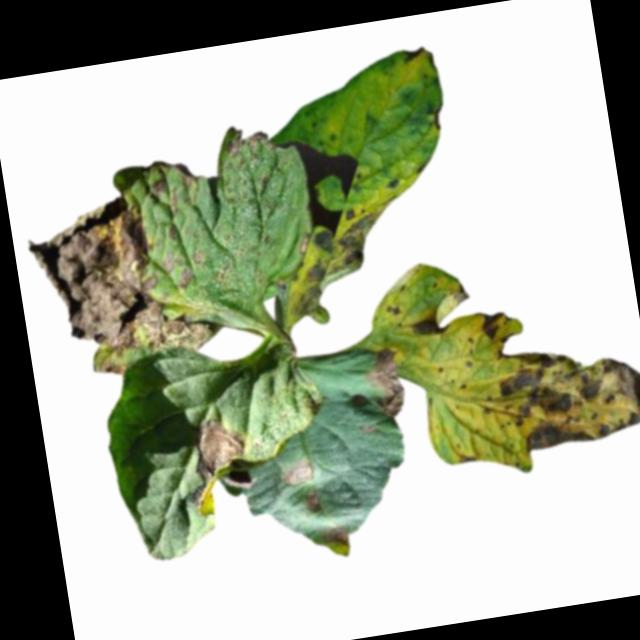Early_blight: (21, 184, 218, 385), (491, 331, 640, 455), (277, 202, 403, 321), (179, 409, 256, 515), (363, 342, 408, 422), (223, 117, 279, 165), (470, 307, 508, 342), (408, 312, 452, 340), (280, 461, 314, 487), (323, 521, 348, 549), (398, 43, 429, 65), (301, 489, 325, 514), (384, 299, 404, 319)
